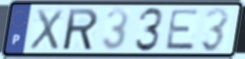3: (200, 6, 234, 54), (100, 6, 131, 53), (134, 6, 164, 53)
E: (164, 8, 202, 52)
R: (63, 6, 100, 52)
X: (28, 7, 66, 52)
